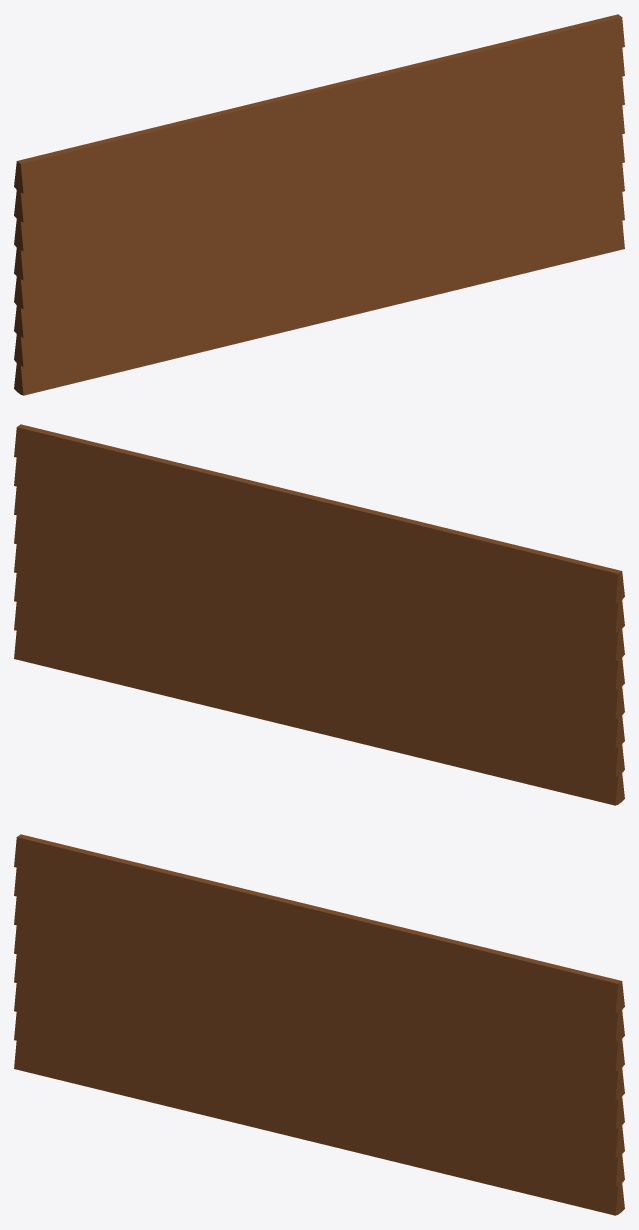
Rendered from ww_large_wall_a.glb.
3 renders of one model, top to bottom at view 1: azimuth 30°, elevation 25°; view 2: azimuth 150°, elevation 25°; view 3: azimuth 330°, elevation 25°, orthographic.
Visible parts, largest first — view 1: Large_wall; view 2: Large_wall; view 3: Large_wall.
Boxes of the visible parts, x1,y1,x2,y2 form: Large_wall: (14, 14, 624, 395); Large_wall: (14, 424, 624, 805); Large_wall: (14, 834, 624, 1215).
Bounding box in the file's own units: 9.6 × 3.52 × 0.2637.
